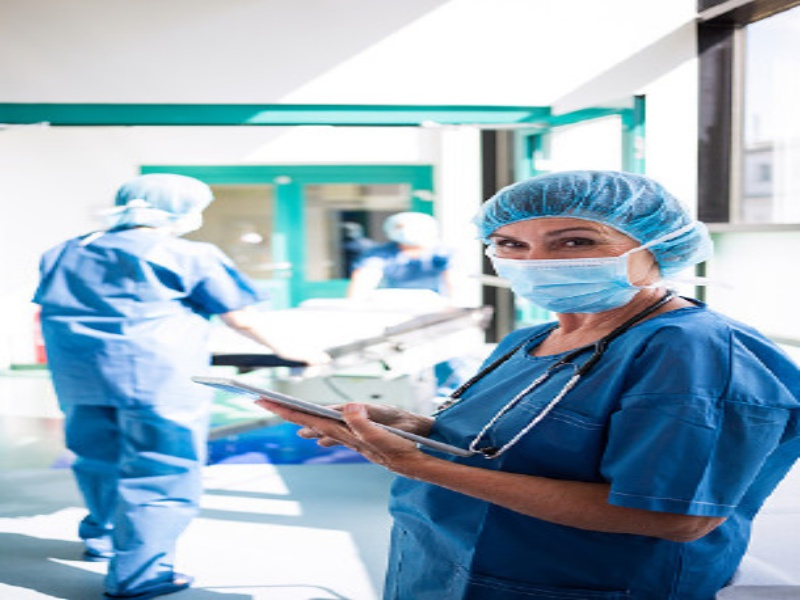mask: (464, 160, 712, 317), (385, 206, 441, 251)
